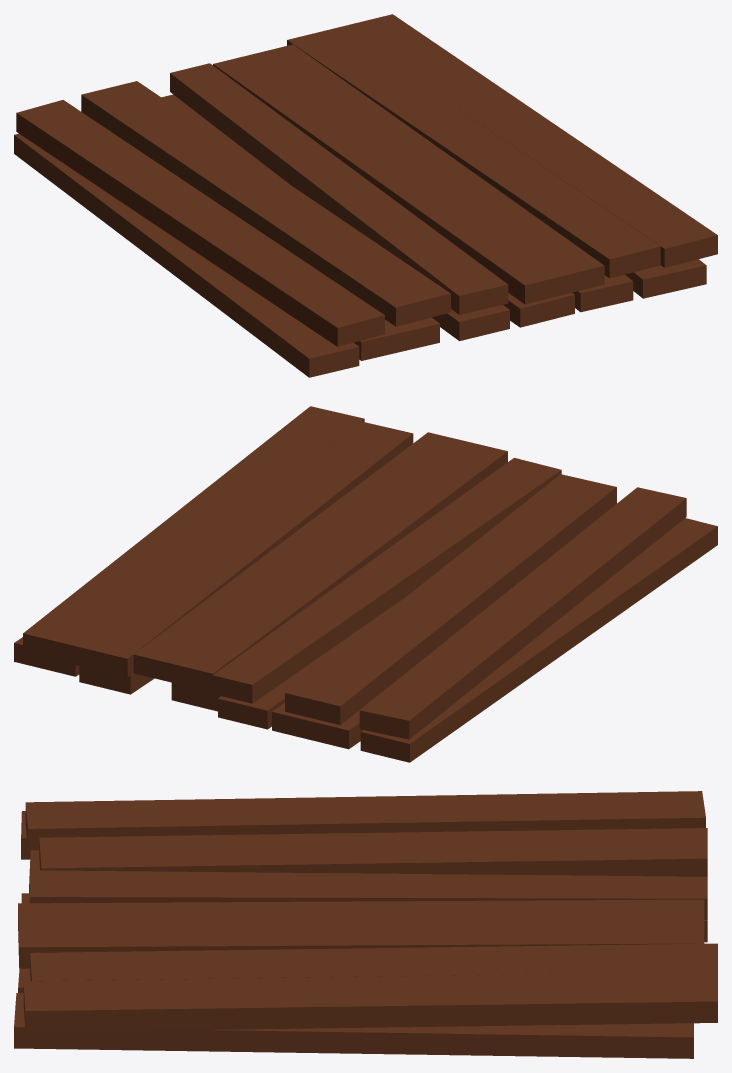
File: prop_pile_of_planks.glb
3 views of the same model, one above another, from view 1: azimuth 30°, elevation 25°; view 2: azimuth 150°, elevation 25°; view 3: azimuth 270°, elevation 25° (orthographic). The views are drawn at different scales.
Visible parts, largest first — view 1: Props with out snow_Pile of planks_0; view 2: Props with out snow_Pile of planks_0; view 3: Props with out snow_Pile of planks_0.
Boxes of the visible parts, <box> form: Props with out snow_Pile of planks_0: <box>14,14,717,377</box>; Props with out snow_Pile of planks_0: <box>14,406,717,762</box>; Props with out snow_Pile of planks_0: <box>14,791,717,1058</box>.
Bounding box in the file's own units: 3.86 × 0.3698 × 5.07.
